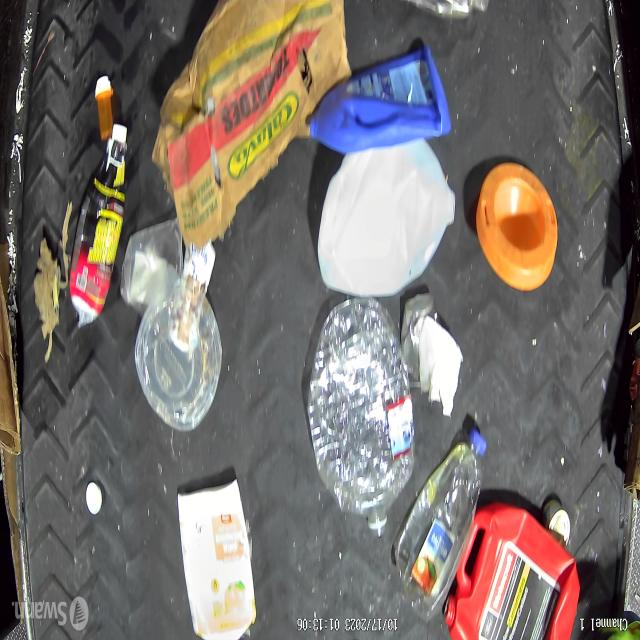milk_jug: (318, 144, 454, 290)
non_white_jug: (457, 502, 576, 640), (305, 48, 450, 156)
plastic_bottle: (306, 299, 415, 534), (394, 435, 484, 610)
